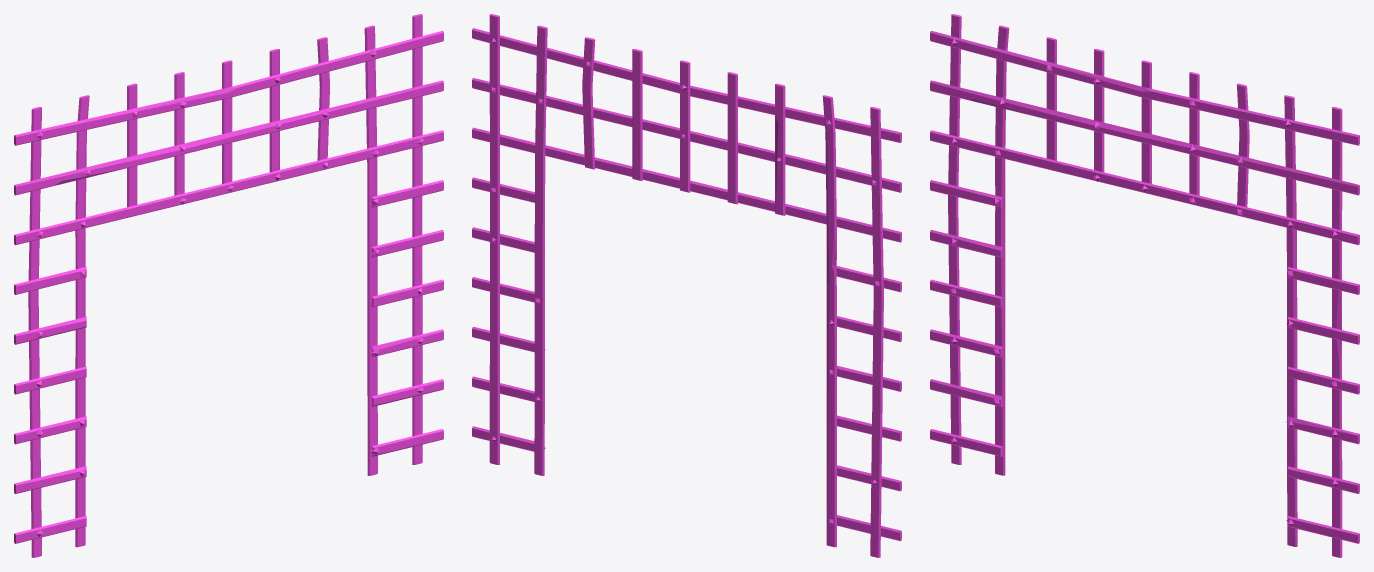
Rendered from SM_Wall_Door_Double_Bars_3x3m_Fantasy.fbx.
3 views of the same model, side by side, from view 1: azimuth 30°, elevation 25°; view 2: azimuth 150°, elevation 25°; view 3: azimuth 330°, elevation 25° (orthographic).
Parts seen in each view (by area): view 1: SM_Wall_Door_Double_Bars_3x3m_Fantasy; view 2: SM_Wall_Door_Double_Bars_3x3m_Fantasy; view 3: SM_Wall_Door_Double_Bars_3x3m_Fantasy.
Part boxes in pixels (bbox=[...]): SM_Wall_Door_Double_Bars_3x3m_Fantasy: bbox=[14, 14, 443, 557]; SM_Wall_Door_Double_Bars_3x3m_Fantasy: bbox=[472, 14, 901, 557]; SM_Wall_Door_Double_Bars_3x3m_Fantasy: bbox=[930, 14, 1359, 557].
Bounding box in the file's own units: 3 × 3 × 0.0917.
